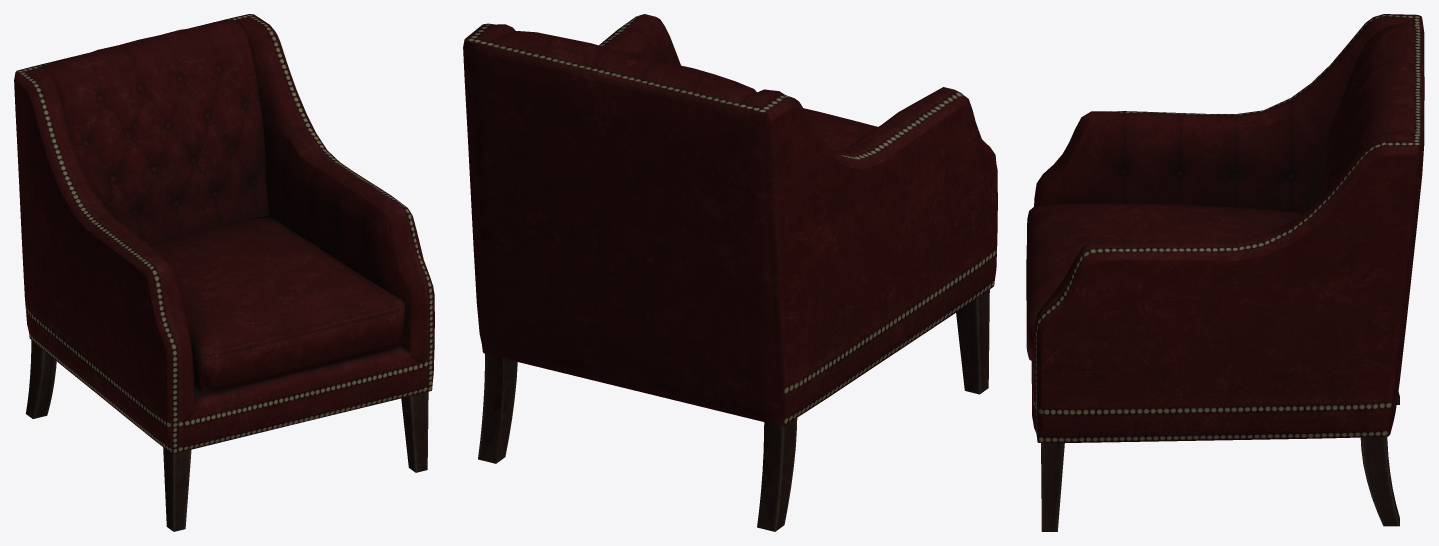
3 renders of one model, left to right at view 1: azimuth 30°, elevation 25°; view 2: azimuth 150°, elevation 25°; view 3: azimuth 270°, elevation 25°, orthographic. The views are drawn at different scales.
Visible parts, largest first — view 1: node_classic_armchair_-1000_1; view 2: node_classic_armchair_-1000_1; view 3: node_classic_armchair_-1000_1.
Part boxes in pixels (x1,y1,x2,y2): node_classic_armchair_-1000_1: (14, 14, 434, 531); node_classic_armchair_-1000_1: (463, 14, 997, 531); node_classic_armchair_-1000_1: (1026, 14, 1424, 531).
Size of the model in its own units: 0.7387 by 0.8949 by 0.8264.
Materials: 1 (1 with a texture image).
